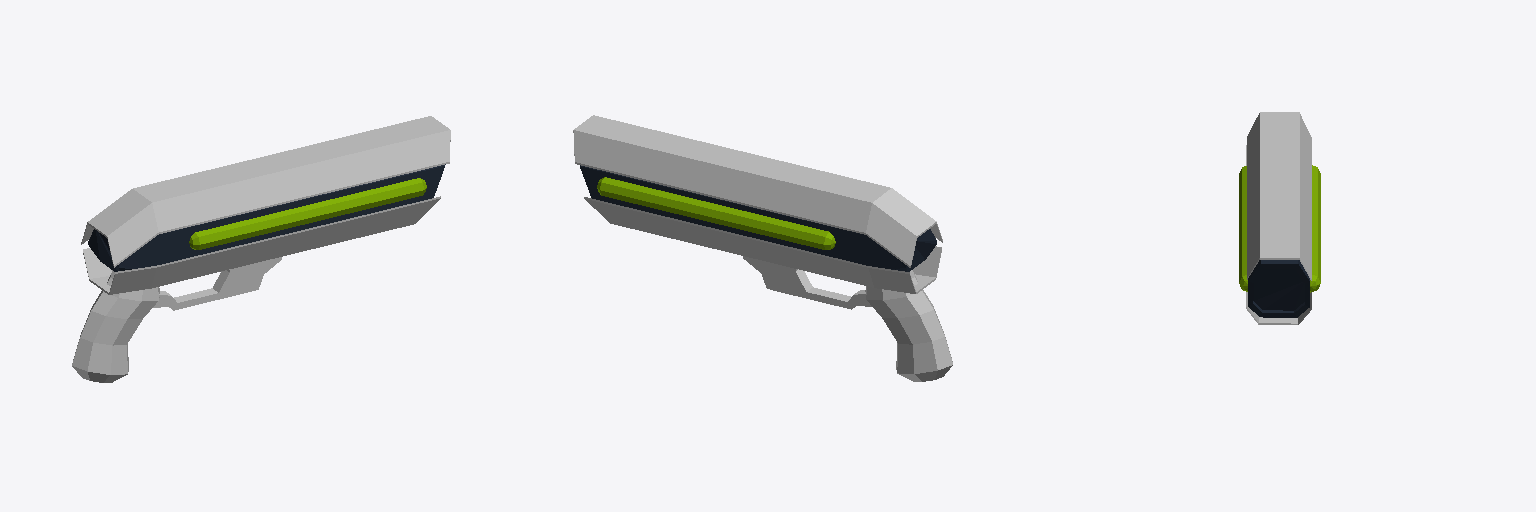
Rendered from PISTOLONVERDE.obj.
3 views of the same model, side by side, from view 1: azimuth 30°, elevation 25°; view 2: azimuth 150°, elevation 25°; view 3: azimuth 270°, elevation 25° (orthographic).
Parts seen in each view (by area): view 1: Cylinder.003, Cylinder.004, Cylinder.002, Cylinder.005, Sphere.001, Cube_Cube.003; view 2: Cylinder.003, Cylinder.004, Cylinder.002, Cylinder.005, Sphere, Cube_Cube.003; view 3: Cylinder.003, Cylinder.002, Sphere, Sphere.001, Cylinder.004.
Boxes of the visible parts, <box> form: Cylinder.003: <box>81,116,450,267</box>; Cylinder.004: <box>83,196,440,294</box>; Cylinder.002: <box>88,164,445,271</box>; Cylinder.005: <box>72,270,159,382</box>; Sphere.001: <box>189,178,426,249</box>; Cube_Cube.003: <box>153,257,281,310</box>; Cylinder.003: <box>573,115,942,267</box>; Cylinder.004: <box>584,197,941,293</box>; Cylinder.002: <box>580,165,936,271</box>; Cylinder.005: <box>865,270,952,381</box>; Sphere: <box>597,177,835,249</box>; Cube_Cube.003: <box>743,256,871,309</box>; Cylinder.003: <box>1247,112,1311,280</box>; Cylinder.002: <box>1248,260,1309,317</box>; Sphere: <box>1310,165,1320,292</box>; Sphere.001: <box>1239,166,1247,291</box>; Cylinder.004: <box>1246,145,1311,324</box>.
Bounding box in the file's own units: 2.61 × 1.2 × 0.5014.